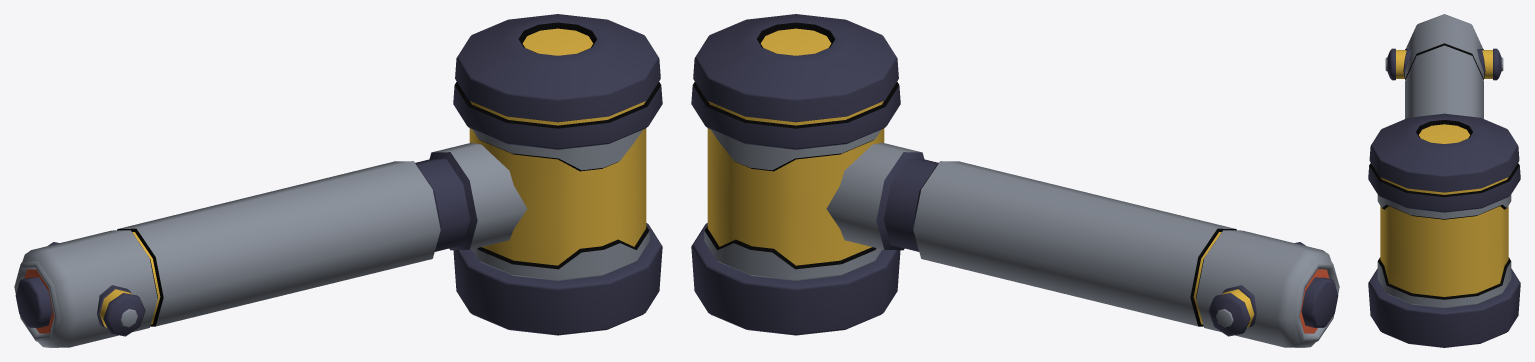
File: Rotator_object.fbx
3 views of the same model, side by side, from view 1: azimuth 30°, elevation 25°; view 2: azimuth 150°, elevation 25°; view 3: azimuth 270°, elevation 25° (orthographic). The views are drawn at different scales.
Parts seen in each view (by area): view 1: pCylinder13, pCylinder14, pCylinder15; view 2: pCylinder13, pCylinder14, pCylinder15; view 3: pCylinder13, pCylinder14, pCylinder15 (×2).
Part boxes in pixels (left/top/right/bottom): pCylinder13: left=453, top=14, right=662, bottom=335; pCylinder14: left=14, top=142, right=527, bottom=347; pCylinder15: left=97, top=285, right=145, bottom=336; pCylinder13: left=691, top=14, right=900, bottom=335; pCylinder14: left=826, top=142, right=1339, bottom=347; pCylinder15: left=1208, top=285, right=1256, bottom=336; pCylinder13: left=1368, top=113, right=1520, bottom=347; pCylinder14: left=1405, top=14, right=1483, bottom=118; pCylinder15 (×2): left=1385, top=48, right=1503, bottom=80.
Size of the model in its own units: 83.11 by 33.22 by 24.25.
